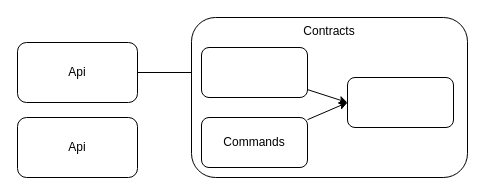
The diagram is 485 pixels wide and 195 high, and some of its shapes have lost their labels. The centre of each missing label's shape, as x and y in pixels:
"Dtos" belongs at (x=400, y=102).
"Requests" belongs at (x=254, y=72).
